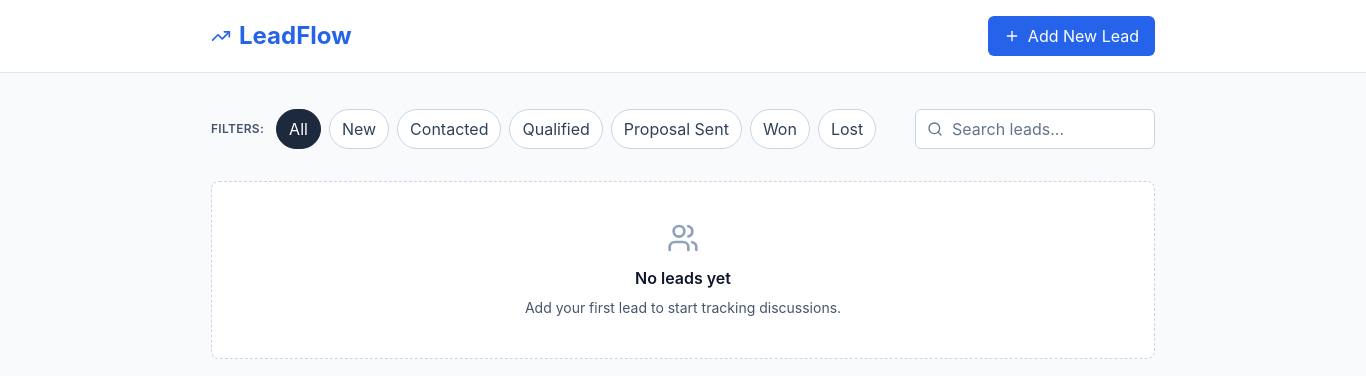
handles an empty list and no matches independently
The width and height of the screenshot is (1366, 376).
Expected: the heading "No leads yet" is shown, [635, 268, 731, 288]
Click the button "Lost".
click(847, 129)  # box [818, 109, 876, 149]
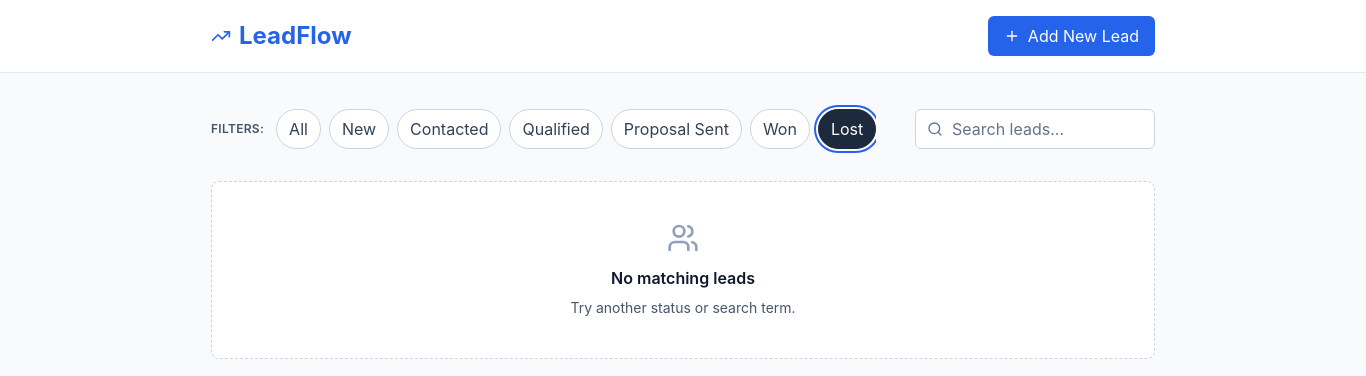
Now the heading "No matching leads" is shown, box [611, 268, 755, 288]
